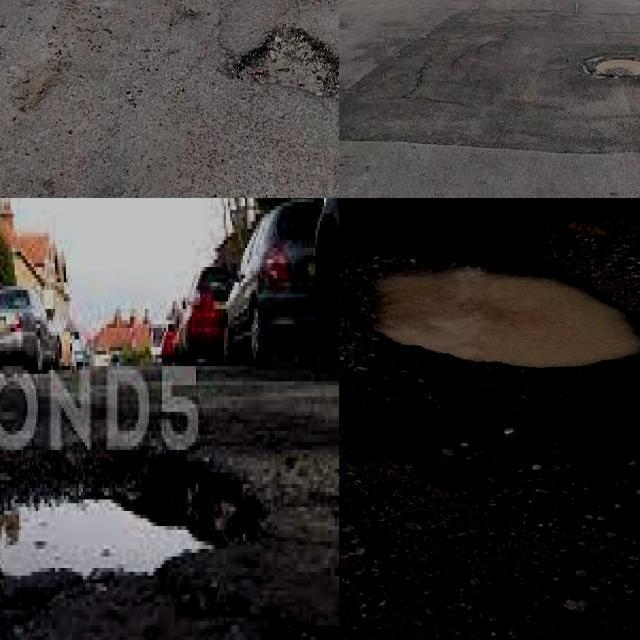Pothole: (339, 253, 640, 367), (0, 451, 260, 576), (237, 27, 339, 103), (588, 57, 640, 83)
